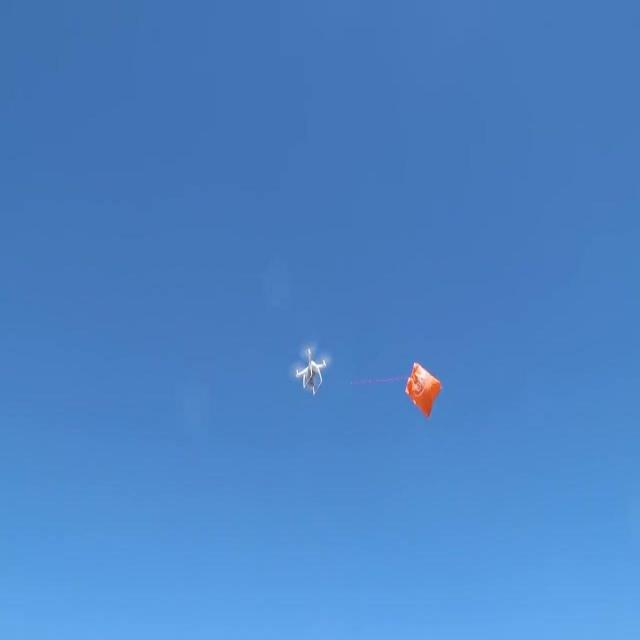UAV: (289, 342, 332, 395)
